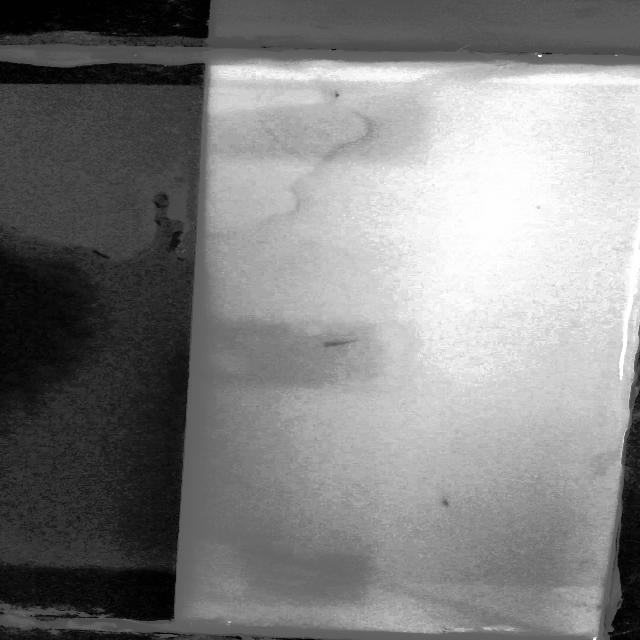shrimp: (320, 339, 384, 356), (436, 498, 462, 508), (327, 94, 347, 102)
